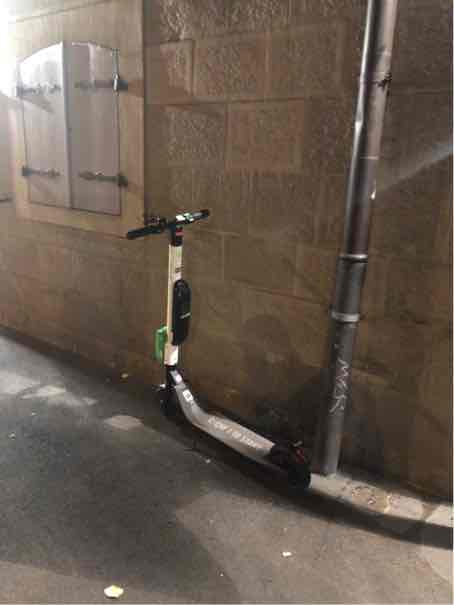scooter: (122, 202, 317, 495)
